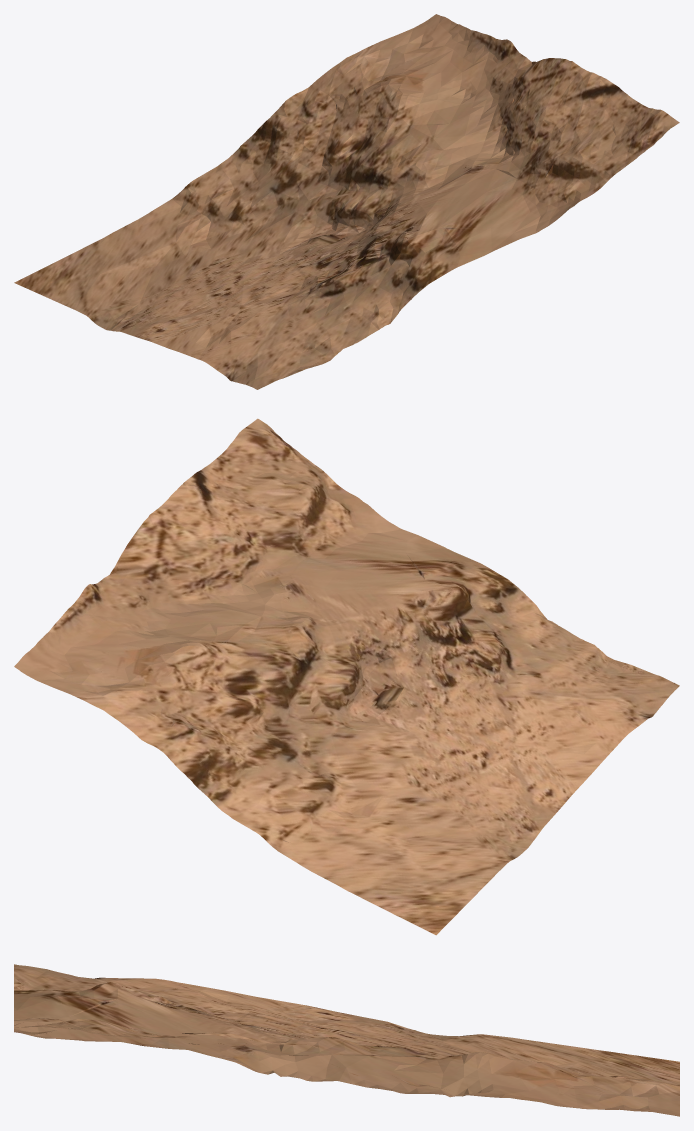
The picture shows the model from 3 angles, top to bottom: view 1: azimuth 30°, elevation 25°; view 2: azimuth 150°, elevation 25°; view 3: azimuth 270°, elevation 25°; orthographic projection. The views are drawn at different scales.
Size of the model in its own units: 2.09 by 1.11 by 2.09.
Materials: 2 (2 with a texture image).
